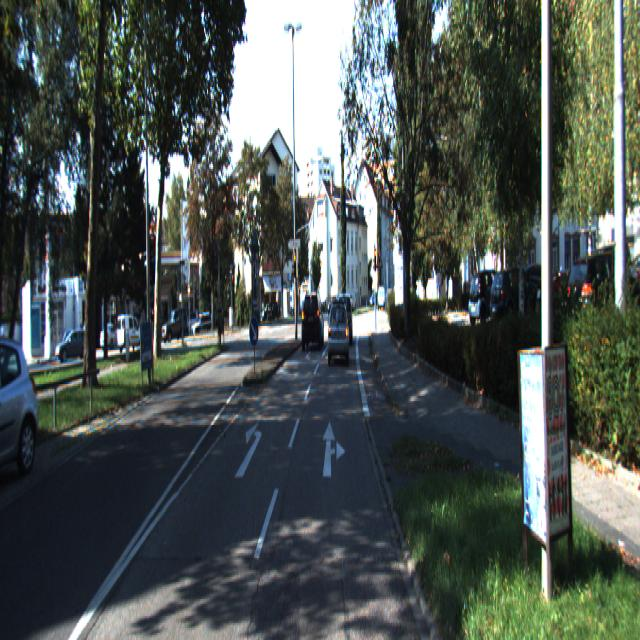Car: (0, 333, 41, 484), (490, 269, 546, 332), (469, 265, 517, 324), (302, 292, 324, 349), (328, 303, 348, 365), (337, 292, 354, 343)
DontCare: (556, 237, 639, 381), (55, 302, 186, 372), (260, 294, 278, 322), (369, 284, 386, 313)
